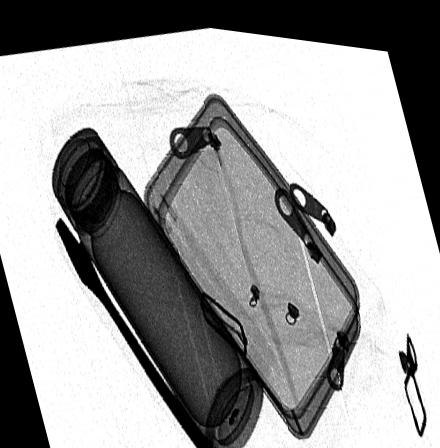Wrench: (52, 212, 220, 448)
